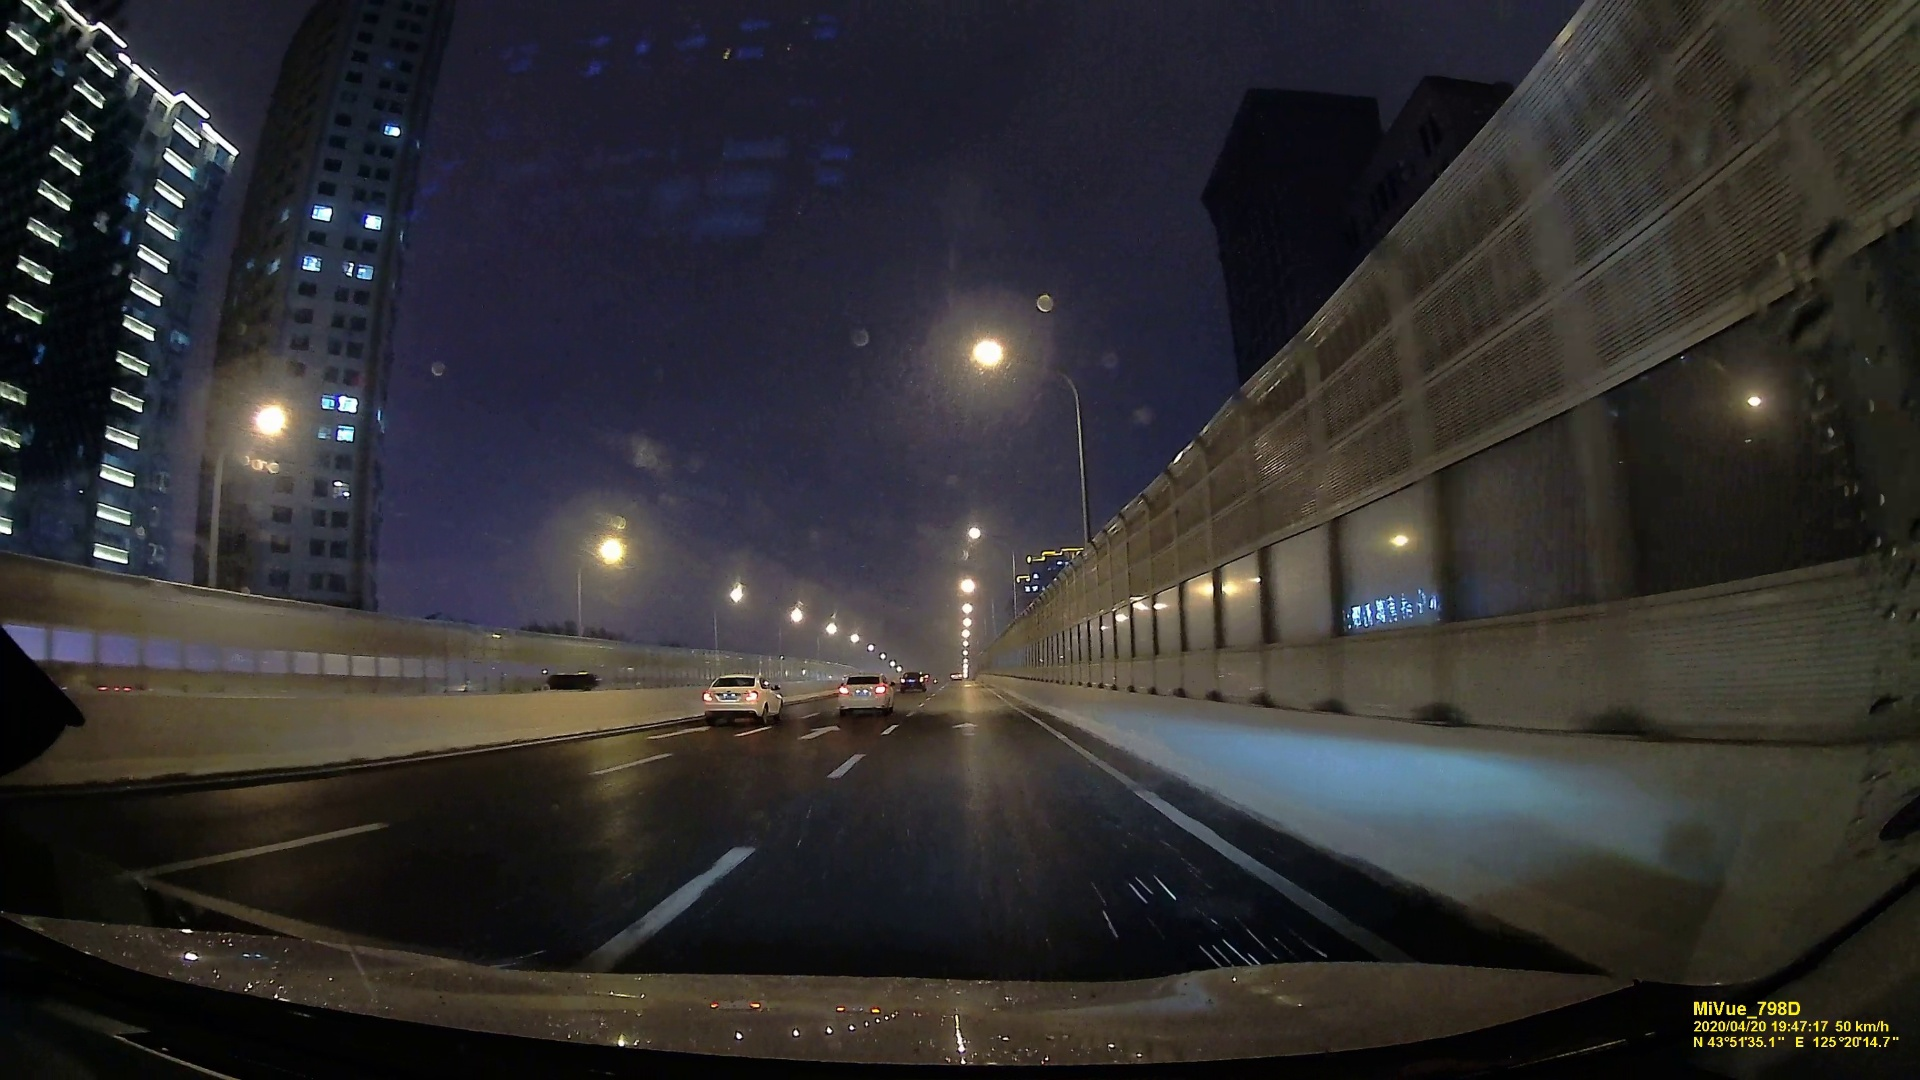vehicle: (700, 673, 779, 724), (837, 673, 893, 713)
